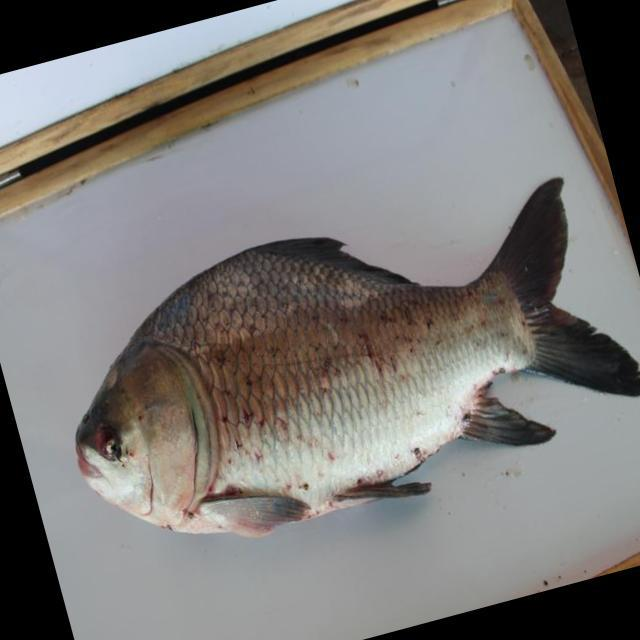Catla: (72, 177, 640, 546)
